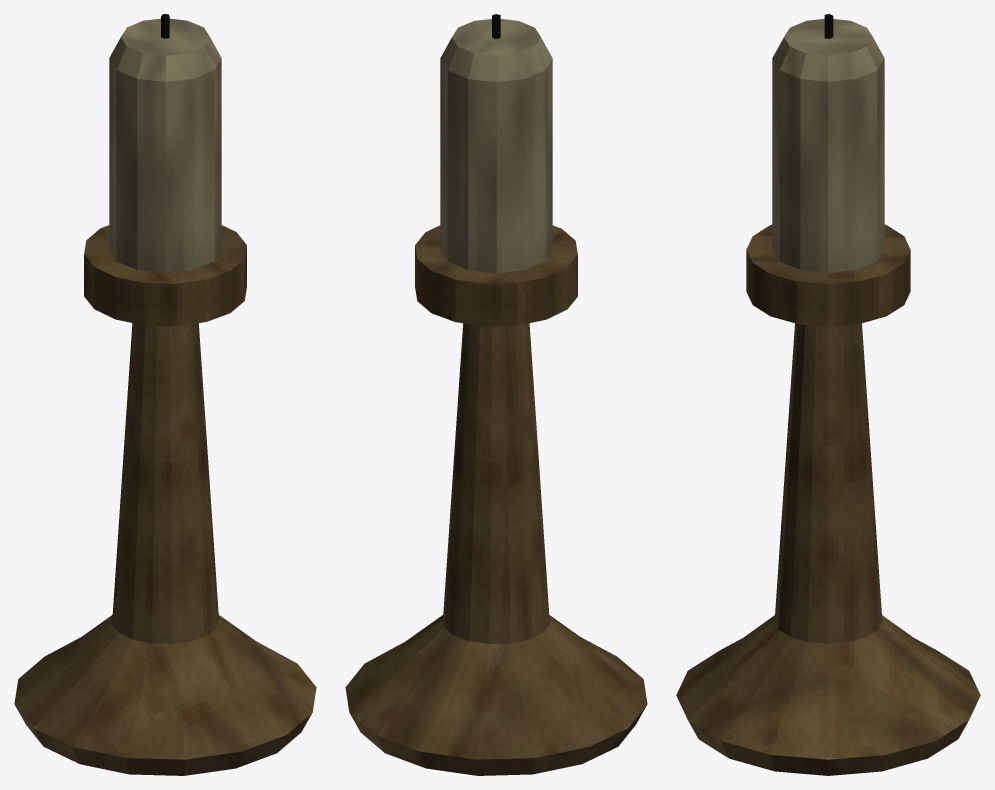
File: level_loose_candlestick_worn.glb
The picture shows the model from 3 angles, left to right: view 1: azimuth 30°, elevation 25°; view 2: azimuth 150°, elevation 25°; view 3: azimuth 270°, elevation 25°; orthographic projection.
Parts seen in each view (by area): view 1: level_loose_candlestick_worn; view 2: level_loose_candlestick_worn; view 3: level_loose_candlestick_worn.
Part boxes in pixels (<box>): level_loose_candlestick_worn: <box>14,14,316,775</box>; level_loose_candlestick_worn: <box>345,14,647,775</box>; level_loose_candlestick_worn: <box>676,14,980,775</box>.
Bounding box in the file's own units: 0.13 × 0.33 × 0.13.
Materials: 3 (3 with a texture image).
